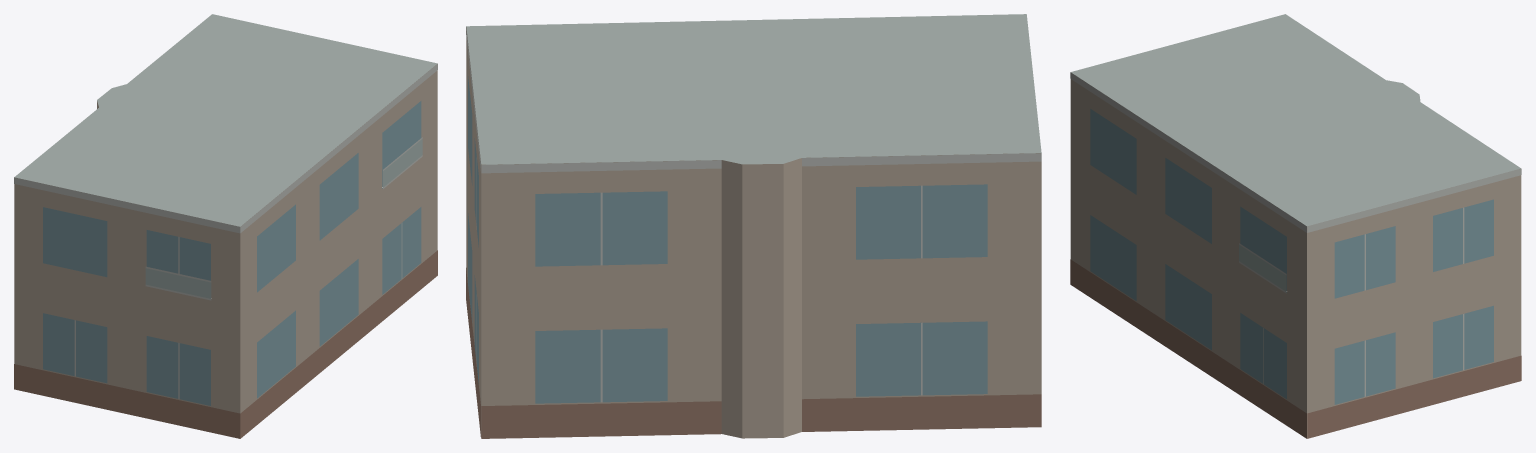
Rendered from survey-upis-32621837.glb.
3 renders of one model, left to right at view 1: azimuth 30°, elevation 25°; view 2: azimuth 150°, elevation 25°; view 3: azimuth 270°, elevation 25°, orthographic. The views are drawn at different scales.
Visible parts, largest first — view 1: survey-upis-32621837.tmp; view 2: survey-upis-32621837.tmp; view 3: survey-upis-32621837.tmp.
Boxes of the visible parts, x1=… form: survey-upis-32621837.tmp: x1=14, y1=14, x2=437, y2=438; survey-upis-32621837.tmp: x1=466, y1=14, x2=1041, y2=438; survey-upis-32621837.tmp: x1=1070, y1=14, x2=1521, y2=438.
Bounding box in the file's own units: 16.73 × 7.8 × 15.01.
